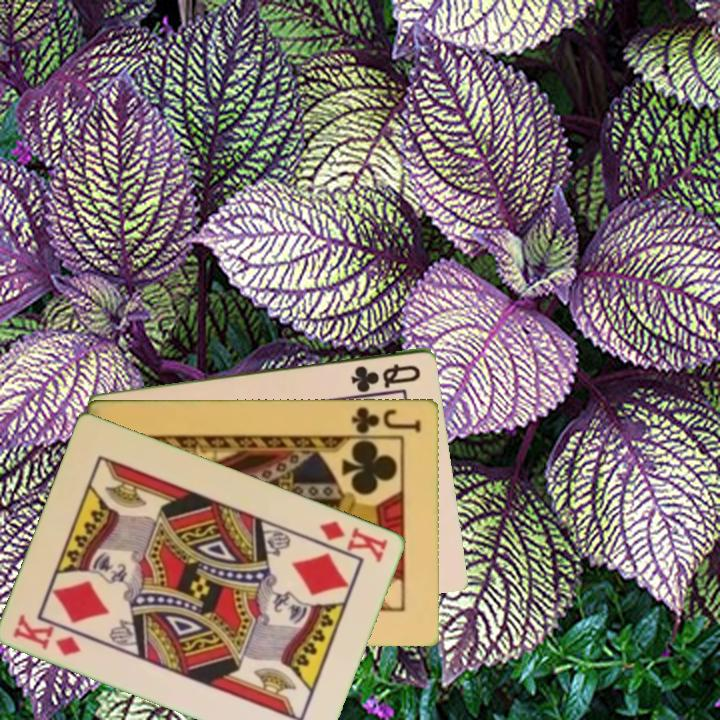Jc: (349, 403, 425, 436)
Kd: (316, 517, 391, 565), (10, 611, 84, 659)
Qc: (347, 360, 424, 394)
